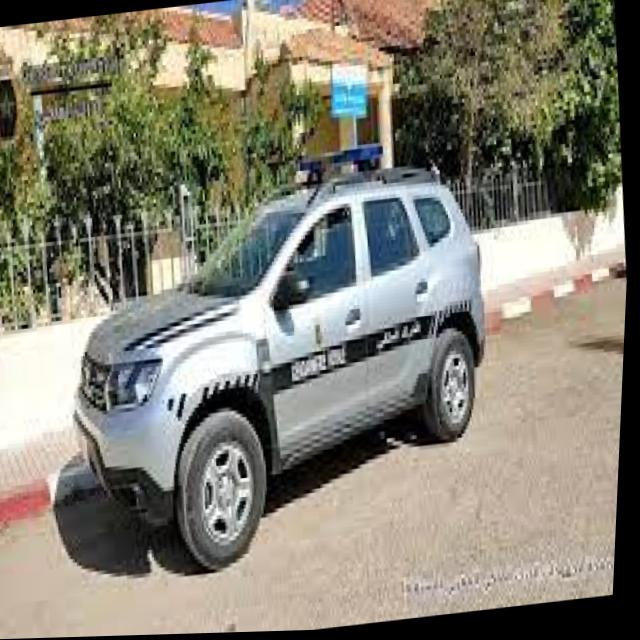gendarme car: (42, 123, 524, 592)
